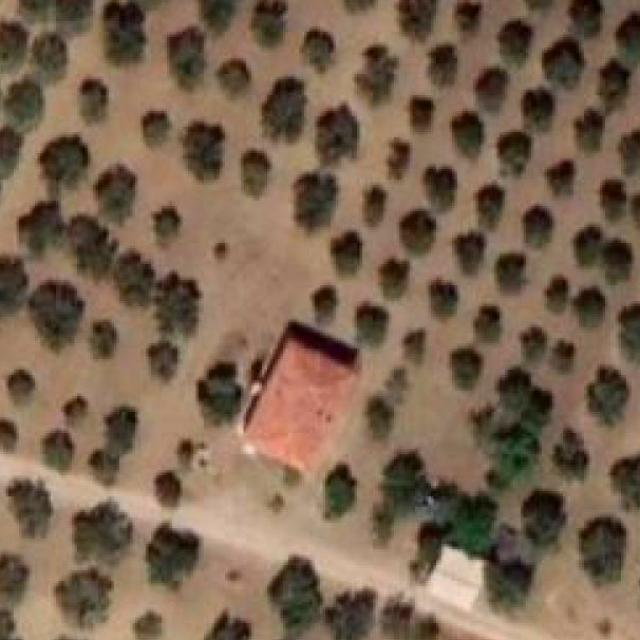Tree: (150, 520, 208, 594), (69, 505, 131, 571), (480, 425, 540, 493), (576, 516, 632, 588), (267, 560, 323, 629), (28, 280, 86, 346), (476, 554, 534, 620), (96, 163, 140, 236), (54, 568, 107, 628), (540, 36, 594, 94), (98, 0, 148, 62), (188, 359, 241, 417), (12, 475, 56, 544), (38, 135, 90, 193), (524, 491, 570, 551), (406, 518, 446, 587), (246, 0, 297, 52), (167, 23, 209, 85), (180, 124, 228, 178), (262, 80, 306, 138), (402, 206, 448, 261), (450, 106, 495, 162), (456, 494, 501, 550), (587, 363, 631, 419), (487, 130, 537, 179), (165, 272, 205, 332), (445, 225, 491, 277), (605, 449, 640, 516), (468, 296, 508, 354), (135, 98, 180, 149), (313, 109, 358, 160), (14, 201, 63, 246), (70, 222, 108, 280), (383, 454, 427, 504), (550, 435, 594, 485), (355, 51, 398, 102), (111, 256, 157, 302), (429, 159, 471, 209), (0, 549, 36, 607), (568, 106, 614, 151), (1, 81, 45, 128), (35, 34, 77, 83), (360, 178, 398, 232), (518, 201, 558, 252), (292, 169, 334, 216), (521, 87, 562, 135), (364, 498, 402, 548), (328, 230, 369, 276), (494, 253, 534, 300), (592, 63, 630, 112), (288, 26, 328, 72), (322, 465, 358, 515), (494, 364, 530, 414), (544, 273, 580, 322), (0, 24, 33, 77), (220, 58, 266, 96), (473, 185, 511, 231), (336, 593, 373, 640), (566, 0, 607, 42), (518, 322, 556, 367), (568, 219, 604, 266), (402, 88, 442, 130), (450, 346, 487, 391), (426, 277, 462, 323), (37, 428, 74, 472), (0, 252, 26, 314), (193, 0, 246, 30), (605, 238, 636, 289), (470, 66, 505, 111), (193, 612, 249, 640), (104, 412, 140, 455), (394, 0, 436, 36), (494, 16, 530, 58), (156, 470, 192, 512), (576, 294, 612, 336), (613, 13, 640, 66), (77, 74, 110, 117), (382, 253, 411, 301), (521, 394, 553, 437), (426, 40, 462, 78), (167, 436, 203, 474), (378, 593, 407, 640), (9, 368, 40, 410), (542, 153, 578, 189), (600, 178, 632, 218), (0, 120, 22, 178), (362, 397, 390, 442), (310, 283, 341, 323), (64, 396, 100, 429), (619, 122, 640, 178), (378, 140, 411, 174), (399, 328, 431, 363), (86, 446, 115, 484), (450, 0, 476, 42), (149, 341, 175, 383), (0, 607, 33, 640), (135, 605, 166, 640), (621, 300, 640, 357), (550, 340, 580, 376), (0, 412, 19, 468), (54, 0, 93, 27), (88, 319, 117, 355), (206, 236, 238, 268), (239, 151, 263, 193), (355, 301, 383, 337), (404, 612, 439, 640), (154, 209, 178, 246), (518, 0, 558, 19), (19, 0, 56, 19), (336, 0, 377, 16), (624, 190, 640, 226), (260, 628, 307, 640), (42, 630, 95, 640)
